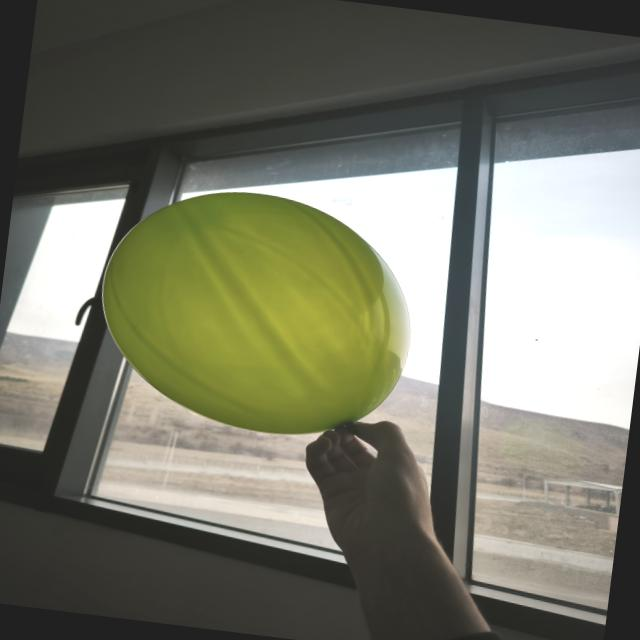balloon: (103, 192, 410, 433)
